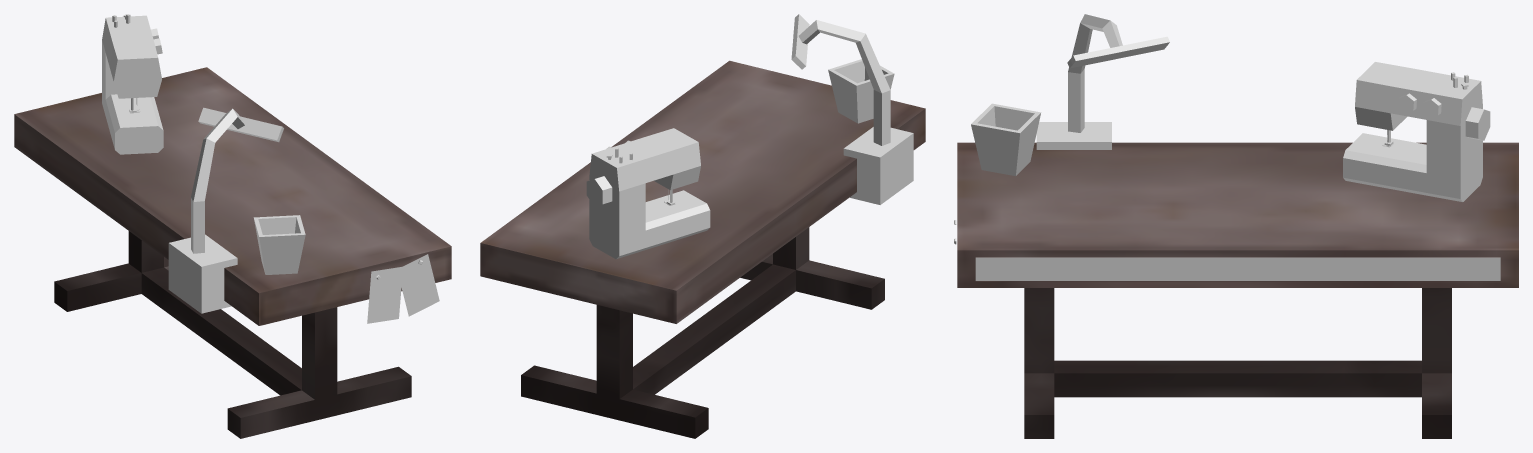
Rendered from workstation.fbx.
3 renders of one model, left to right at view 1: azimuth 30°, elevation 25°; view 2: azimuth 150°, elevation 25°; view 3: azimuth 270°, elevation 25°, orthographic. The views are drawn at different scales.
Visible parts, largest first — view 1: Cube, Cube.002, Cube.003, Cylinder.009, Plane.001, Plane; view 2: Cube, Cube.002, Cube.003, Cylinder.009, Cylinder; view 3: Cube, Cube.002, Cube.001, Cube.003, Cylinder.009, Cylinder.
Boxes of the visible parts, left/top/right/bottom form: Cube: left=14, top=67, right=451, bottom=438; Cube.002: left=102, top=15, right=163, bottom=154; Cube.003: left=168, top=107, right=283, bottom=313; Cylinder.009: left=253, top=215, right=305, bottom=274; Plane.001: left=367, top=266, right=402, bottom=323; Plane: left=401, top=254, right=439, bottom=316; Cube: left=480, top=60, right=925, bottom=438; Cube.002: left=589, top=128, right=710, bottom=259; Cube.003: left=791, top=14, right=913, bottom=204; Cylinder.009: left=828, top=59, right=894, bottom=123; Cylinder: left=586, top=176, right=612, bottom=206; Cube: left=957, top=142, right=1518, bottom=438; Cube.002: left=1343, top=62, right=1482, bottom=201; Cube.001: left=975, top=257, right=1500, bottom=280; Cube.003: left=1036, top=14, right=1169, bottom=149; Cylinder.009: left=971, top=103, right=1041, bottom=176; Cylinder: left=1465, top=107, right=1490, bottom=140.
Size of the model in its own units: 224 by 443 by 293.
Materials: 1 (1 with a texture image).
